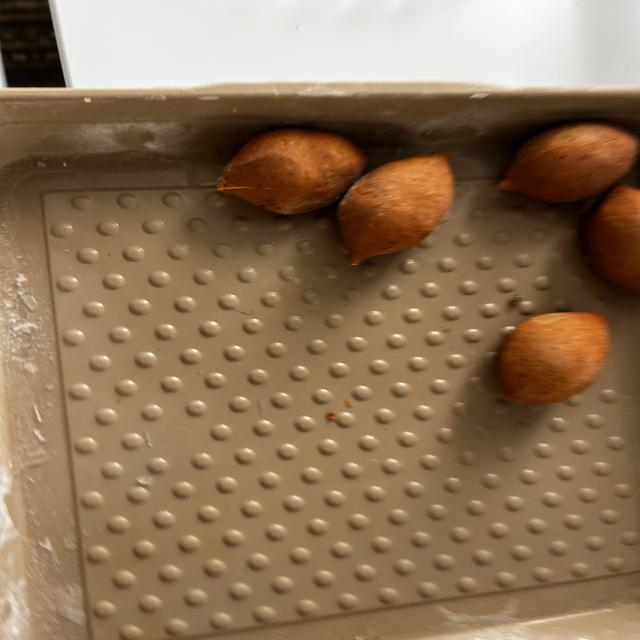kobi: (334, 155, 459, 262), (205, 138, 372, 210), (495, 311, 615, 409), (489, 127, 636, 196), (583, 184, 640, 291)
